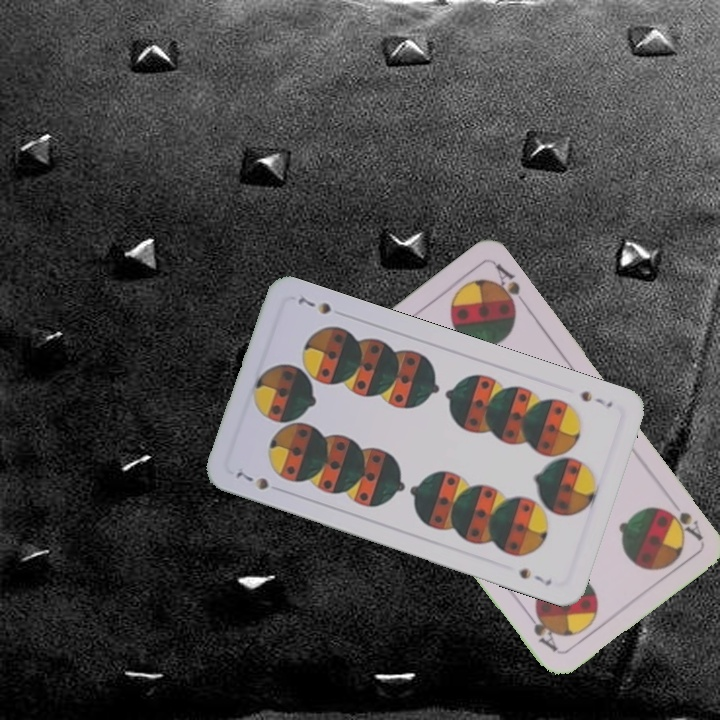S7: (228, 463, 271, 493), (576, 386, 615, 411)
SA: (659, 492, 706, 543)
